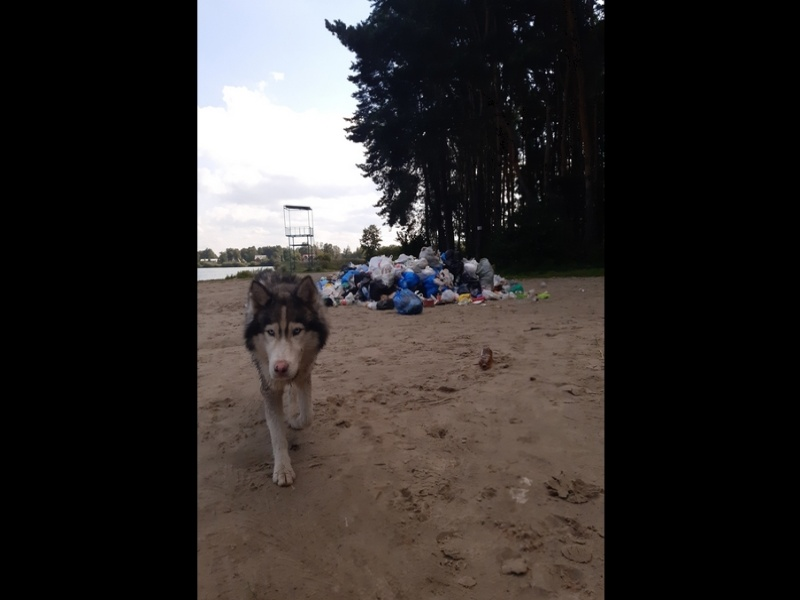dog: (244, 273, 335, 492)
